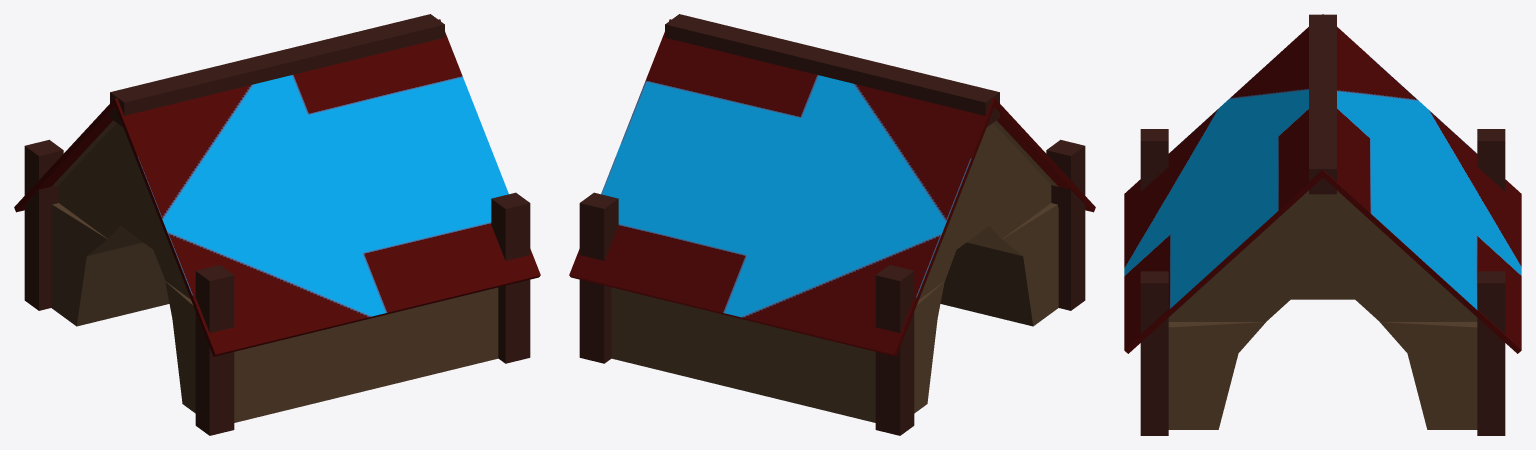
File: Assembler.fbx
3 views of the same model, side by side, from view 1: azimuth 30°, elevation 25°; view 2: azimuth 150°, elevation 25°; view 3: azimuth 270°, elevation 25° (orthographic).
Parts seen in each view (by area): view 1: Plane.001, Cube, Cube.005, Cube.004, Cube.003, Cube.002, Plane.002; view 2: Plane.002, Cube, Cube.005, Cube.002, Cube.001, Cube.004, Plane.001; view 3: Cube, Plane.001, Plane.002, Cube.005, Cube.001, Cube.003, Cube.002, Cube.004.
Part boxes in pixels (x1,y1,x2,y2): Plane.001: (113, 19, 540, 356); Cube: (51, 120, 498, 422); Cube.005: (110, 14, 444, 127); Cube.004: (195, 265, 234, 435); Cube.003: (491, 192, 530, 363); Cube.002: (24, 139, 63, 310); Plane.002: (14, 98, 116, 212); Plane.002: (569, 19, 996, 356); Cube: (611, 120, 1058, 422); Cube.005: (665, 14, 999, 127); Cube.002: (875, 265, 914, 435); Cube.001: (579, 192, 618, 363); Cube.004: (1046, 139, 1085, 310); Plane.001: (993, 98, 1095, 212); Cube: (1168, 190, 1477, 429); Plane.001: (1124, 14, 1326, 353); Plane.002: (1320, 14, 1521, 353); Cube.005: (1309, 14, 1336, 194); Cube.001: (1477, 271, 1505, 435); Cube.003: (1140, 271, 1168, 435); Cube.002: (1477, 129, 1505, 191); Cube.004: (1140, 129, 1168, 191).
Size of the model in its own units: 660 by 525 by 708.
Materials: 3 (1 with a texture image).
